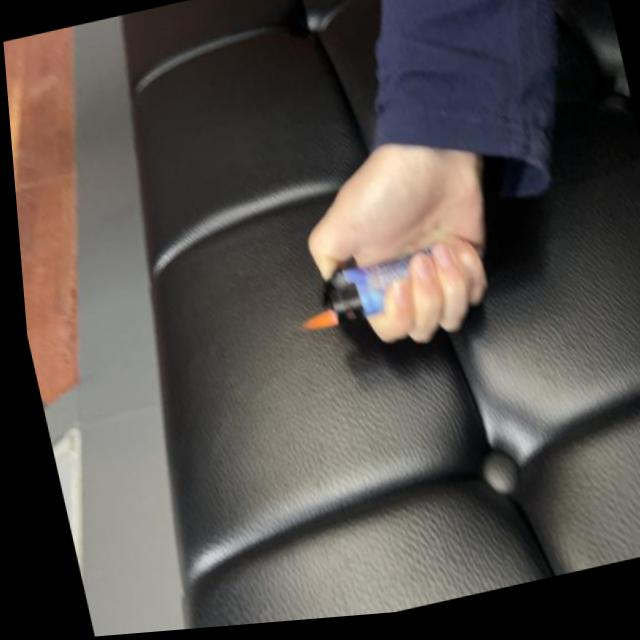Fire: (293, 311, 334, 337)
